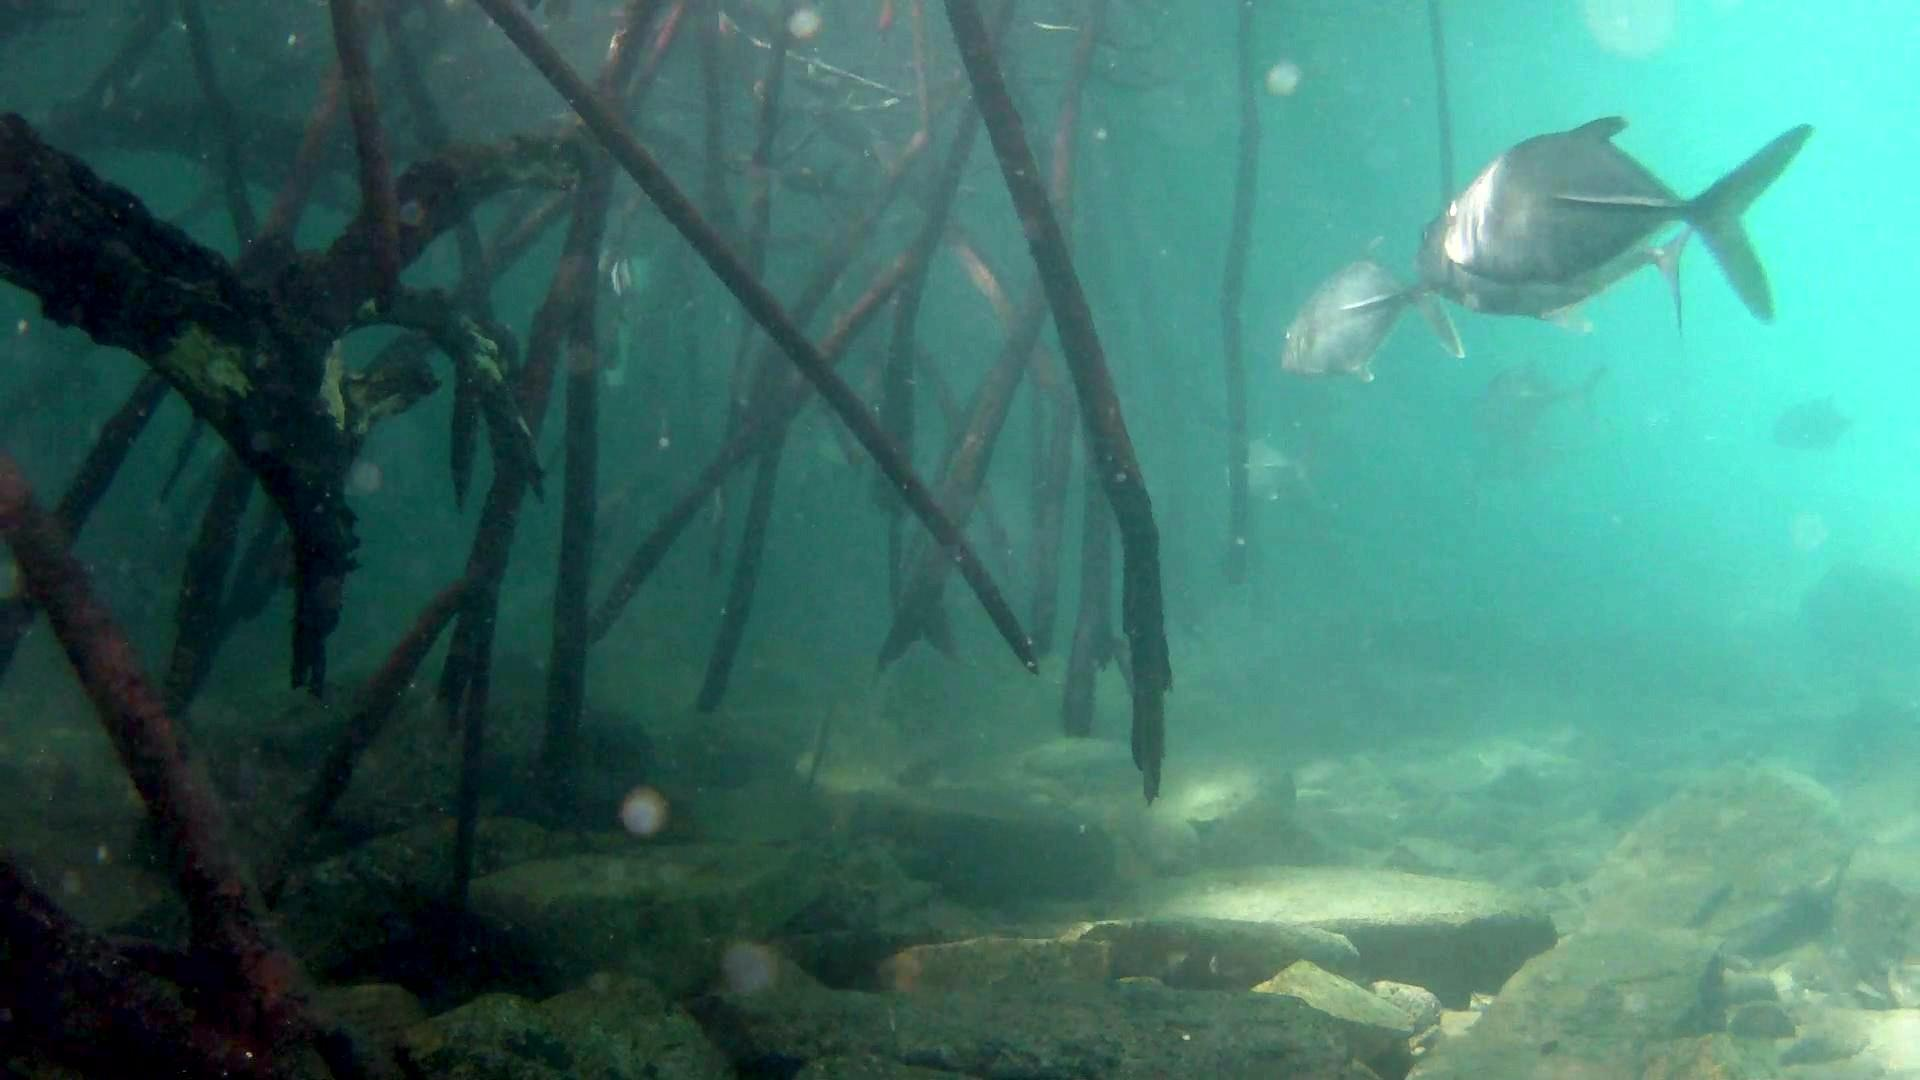caranx: (1438, 98, 1812, 323), (1260, 230, 1470, 390)
